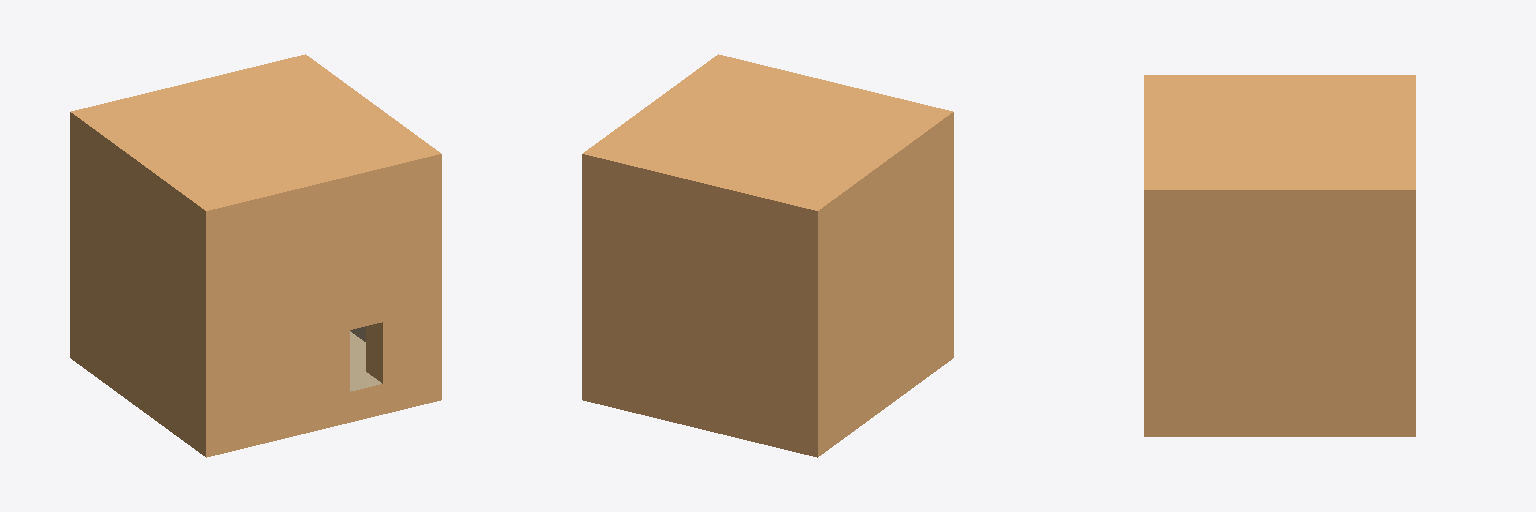
Rendered from building.obj.
3 views of the same model, side by side, from view 1: azimuth 30°, elevation 25°; view 2: azimuth 150°, elevation 25°; view 3: azimuth 270°, elevation 25° (orthographic).
Visible parts, largest first — view 1: world_geometry_world_geometry_MESH; view 2: world_geometry_world_geometry_MESH; view 3: world_geometry_world_geometry_MESH.
Boxes of the visible parts, x1,y1,x2,y2 form: world_geometry_world_geometry_MESH: [70, 54, 441, 457]; world_geometry_world_geometry_MESH: [582, 54, 953, 457]; world_geometry_world_geometry_MESH: [1144, 75, 1415, 436].
Bounding box in the file's own units: 4.88 × 4.88 × 4.88.